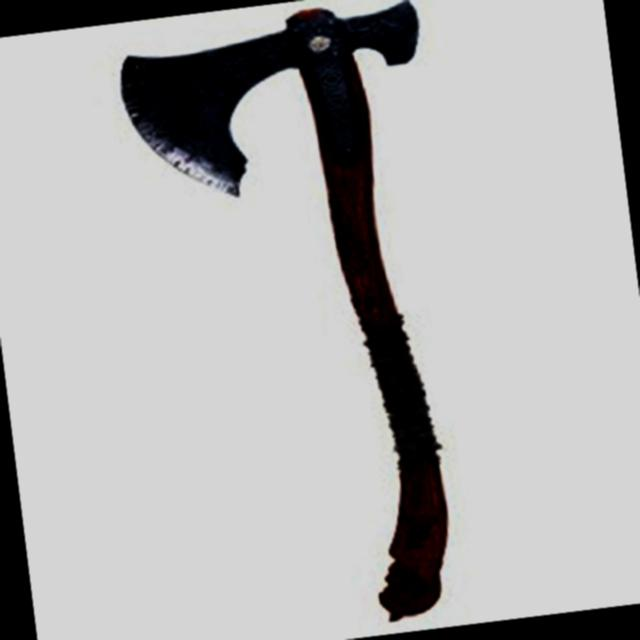ax: (107, 0, 518, 640)
